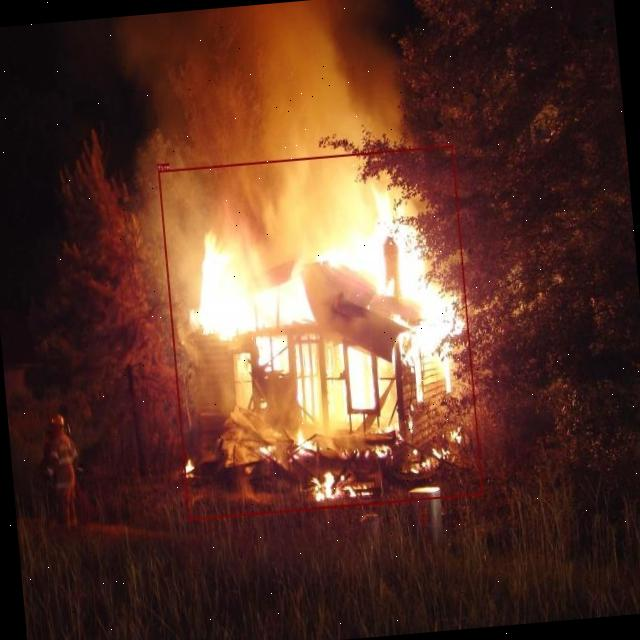fire: (158, 145, 482, 519)
